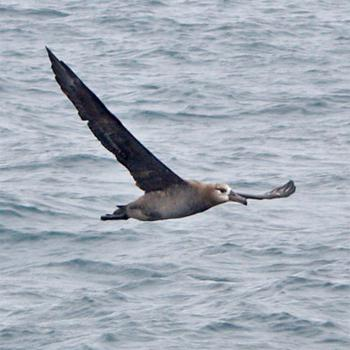001.Black_footed_Albatross: (43, 45, 297, 223)
